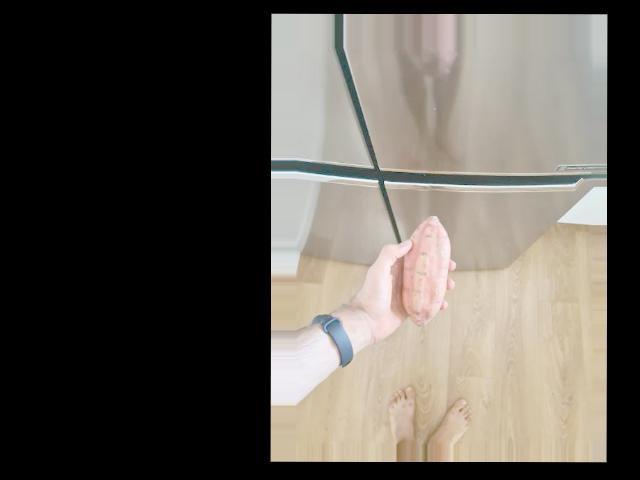sweet_potato: (398, 217, 450, 325)
